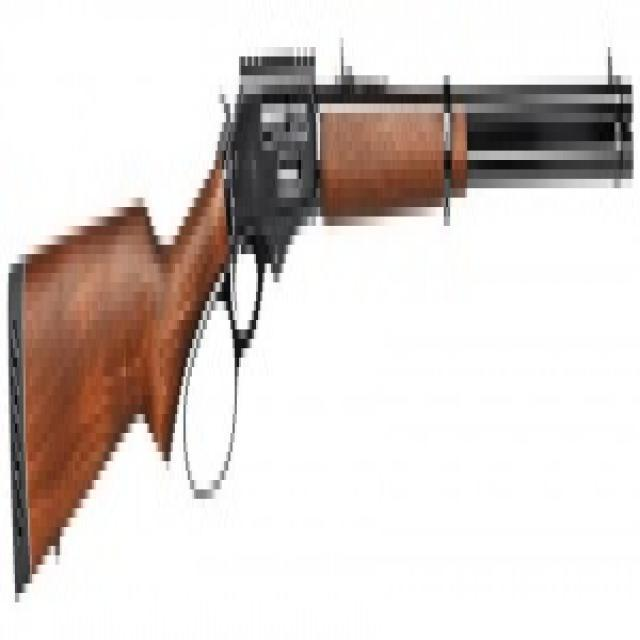weapon: (7, 57, 634, 602)
